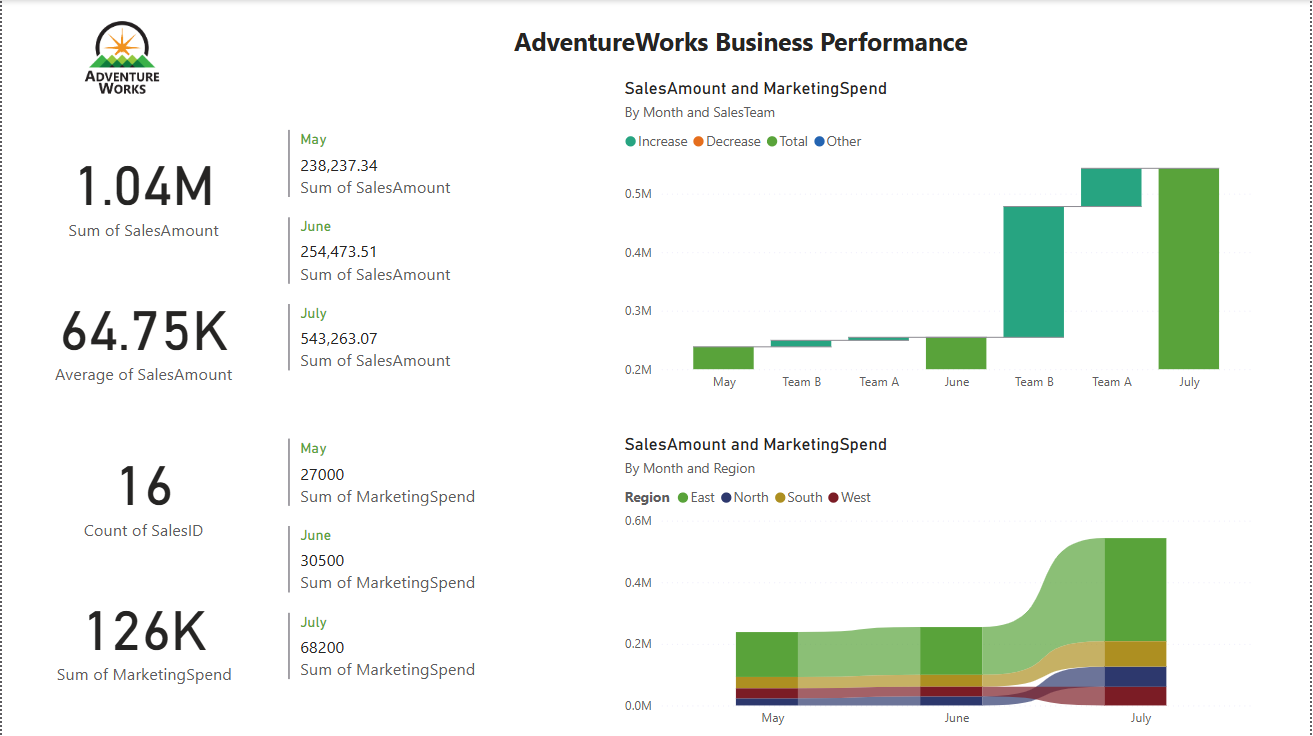

What the dashboard file says about the page in this screenshot:
{"tool":"powerbi","page":{"name":"Page 1","canvas":[1280,720],"ordinal":0},"visuals":[{"type":"card","fields":{"Values":["Sum(Exercise 5 1 4 6-Update.SalesAmount)"]},"box":[15.9,122.3,245.8,127.2],"z":0},{"type":"card","fields":{"Values":["Avg(Exercise 5 1 4 6-Update.SalesAmount)"]},"box":[15.9,262.9,245.8,128.4],"z":1000},{"type":"multiRowCard","fields":{"Values":["Sum(Exercise 5 1 4 6-Update.SalesAmount)","Business Performance.OrderDate.Variation.Date Hierarchy.Month"]},"box":[275.1,122.3,272.7,277.6],"z":2000},{"type":"card","fields":{"Values":["CountNonNull(Business Performance.SalesID)"]},"box":[15.9,415.8,245.8,127.2],"z":3000},{"type":"multiRowCard","fields":{"Values":["Sum(Business Performance.MarketingSpend)","Business Performance.OrderDate.Variation.Date Hierarchy.Month"]},"box":[275.1,424.3,289.8,265.4],"z":4000},{"type":"waterfallChart","title":"SalesAmount and MarketingSpend","fields":{"Y":["Sum(Business Performance.SalesAmount)"],"Category":["Business Performance.OrderDate.Variation.Date Hierarchy.Month"],"Breakdown":["Business Performance.SalesTeam"]},"box":[604.1,75.8,623.6,315.5],"z":5000},{"type":"ribbonChart","title":"SalesAmount and MarketingSpend ","fields":{"Y":["Sum(Business Performance.SalesAmount)"],"Category":["Business Performance.OrderDate.Variation.Date Hierarchy.Month"],"Series":["Business Performance.Region"]},"box":[604.1,424.3,623.6,295.9],"z":6000},{"type":"card","fields":{"Values":["Sum(Business Performance.MarketingSpend)"]},"box":[17.1,557.6,244.6,126],"z":7000},{"type":"textbox","box":[217.7,19.6,1010.1,45.2],"z":8000},{"type":"image","box":[17.1,11,200.5,90.5],"z":9000}]}

Visuals, with their boxes in screenshot pixels (x1, y1, x2, y2), scaled from the page's 1280x720 canvas onto the 1313x736 screenshot:
card - Sum(Exercise 5 1 4 6-Update.SalesAmount): 16, 125, 268, 255
card - Avg(Exercise 5 1 4 6-Update.SalesAmount): 16, 269, 268, 400
multiRowCard - Sum(Exercise 5 1 4 6-Update.SalesAmount) x Business Performance.OrderDate.Variation.Date Hierarchy.Month: 282, 125, 562, 409
card - CountNonNull(Business Performance.SalesID): 16, 425, 268, 555
multiRowCard - Sum(Business Performance.MarketingSpend) x Business Performance.OrderDate.Variation.Date Hierarchy.Month: 282, 434, 579, 705
"SalesAmount and MarketingSpend" waterfallChart: 620, 77, 1259, 400
"SalesAmount and MarketingSpend " ribbonChart: 620, 434, 1259, 735
card - Sum(Business Performance.MarketingSpend): 18, 570, 268, 699
textbox: 223, 20, 1259, 66
image: 18, 11, 223, 104
